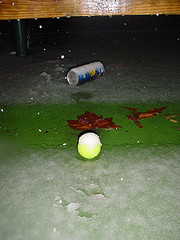tennis ball: (77, 137, 101, 158)
